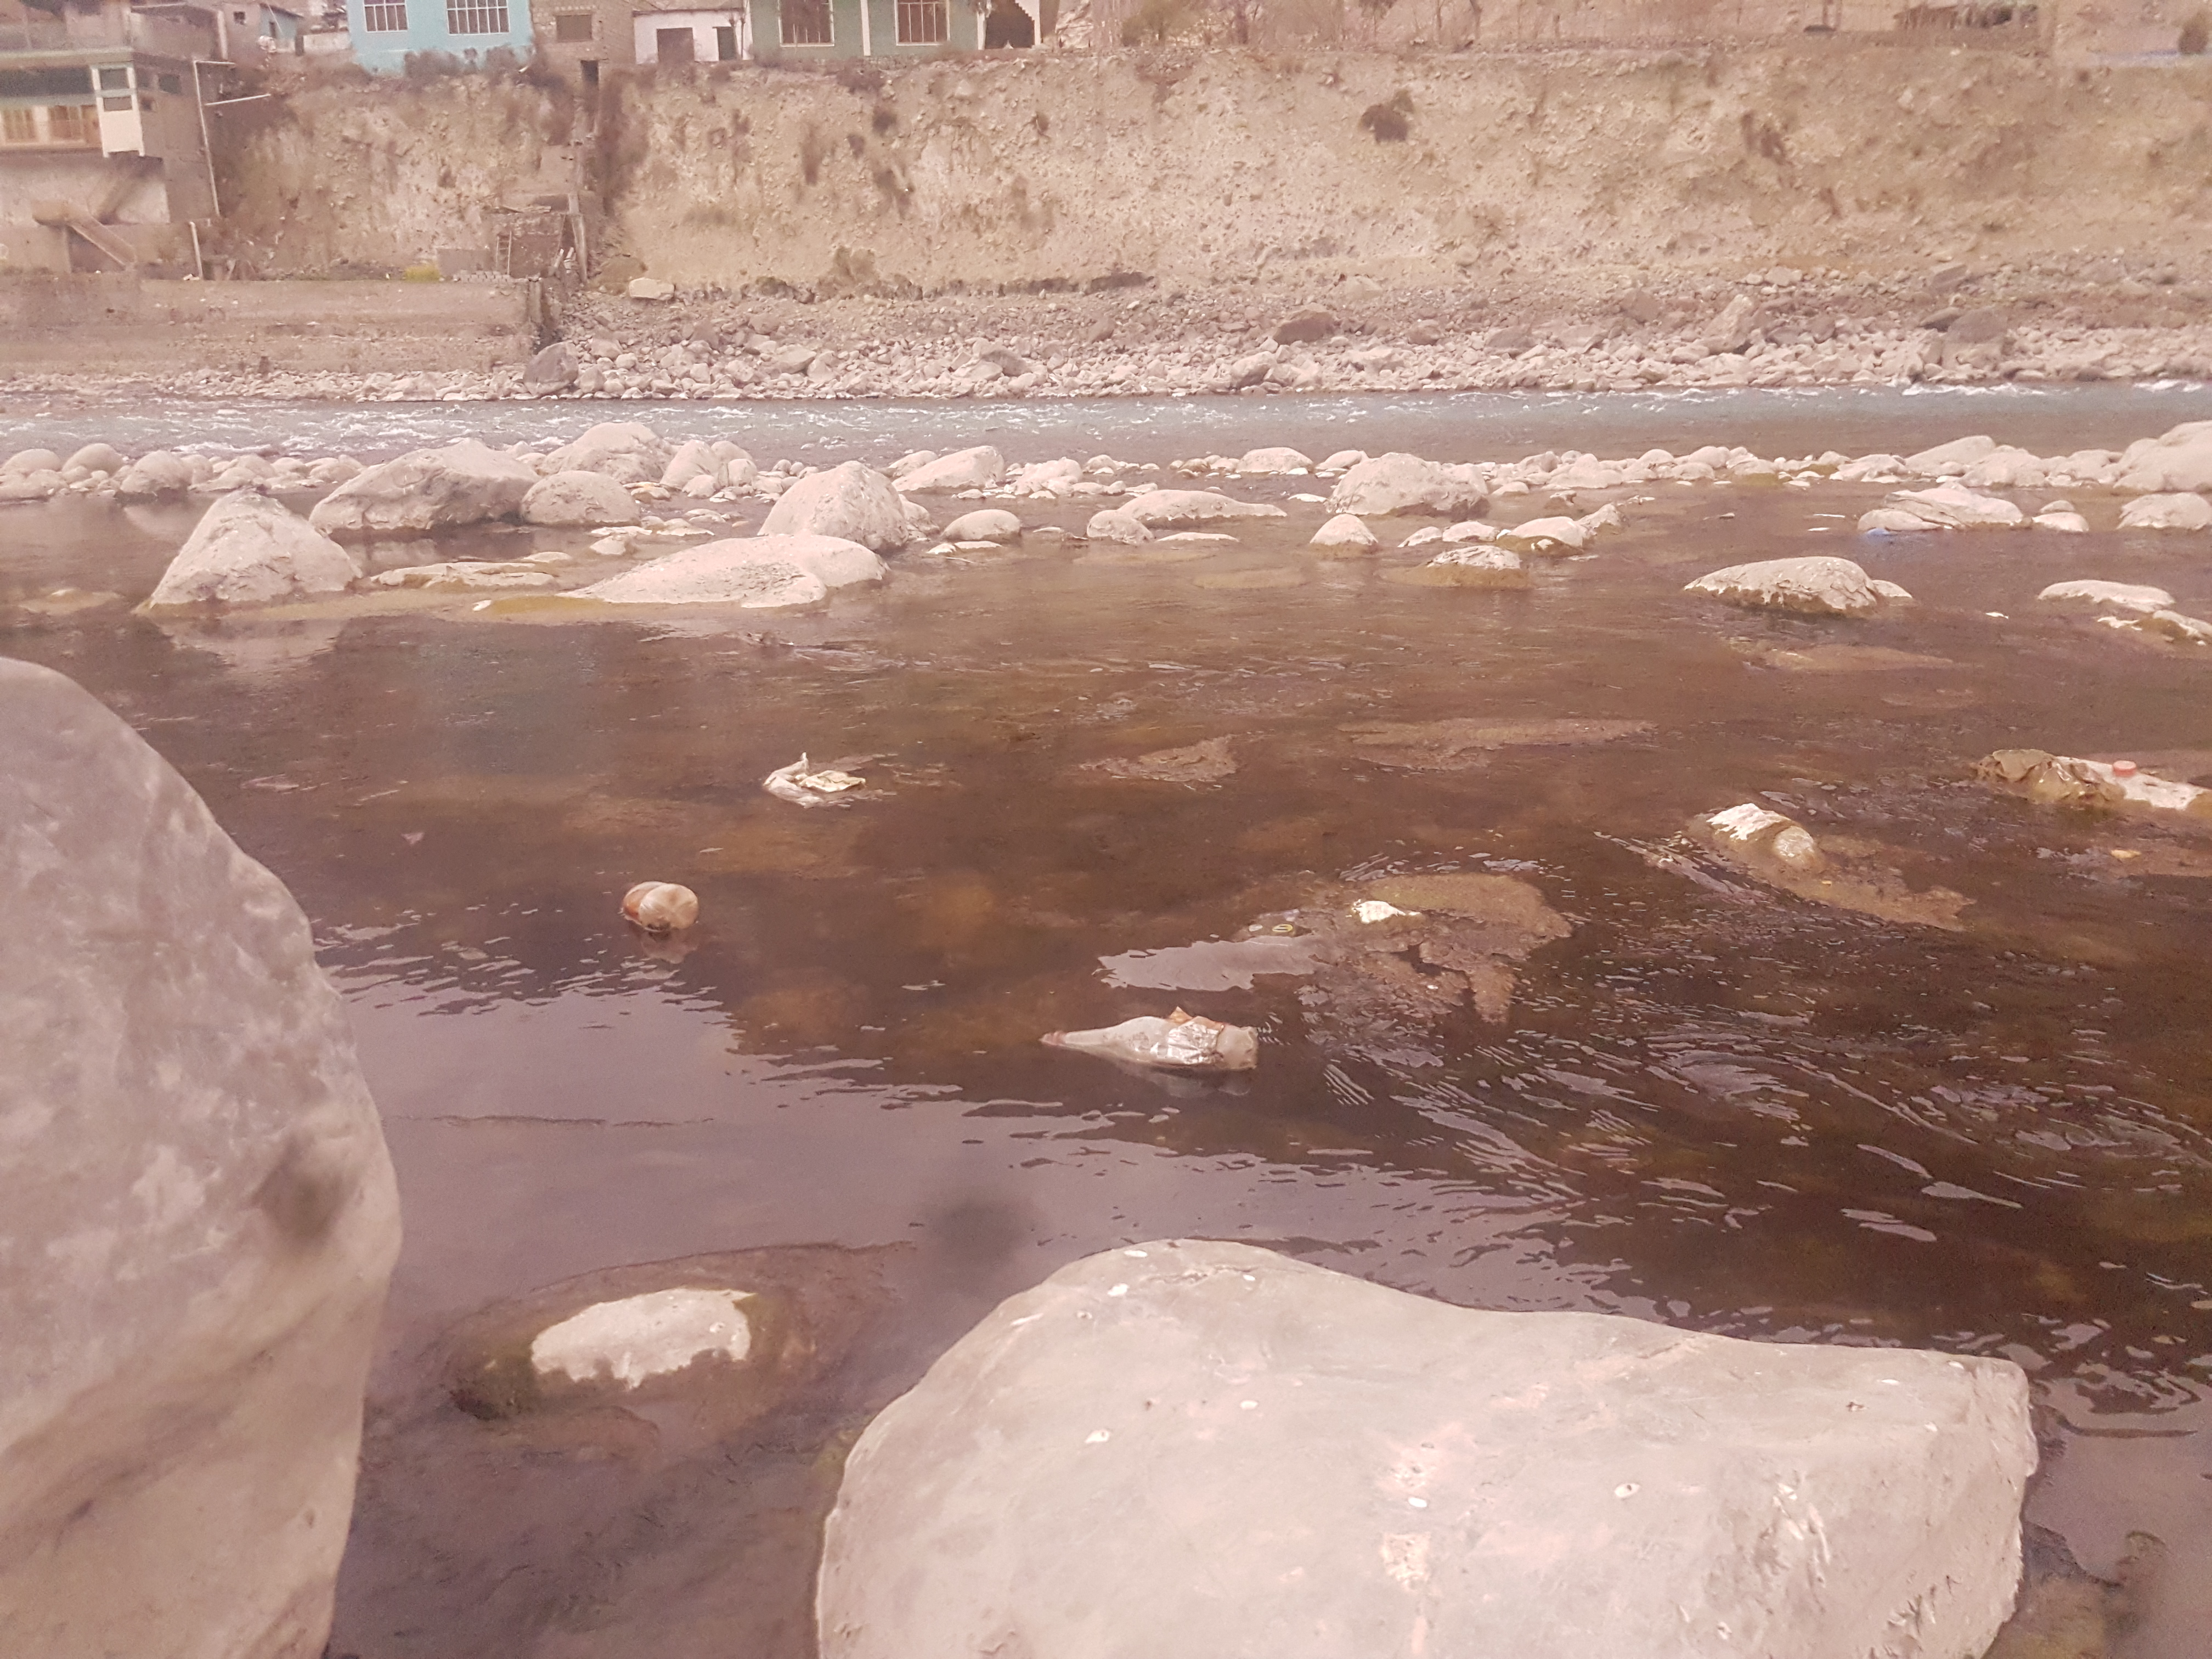Plastic Bottle: (1042, 1014, 1258, 1072), (624, 880, 698, 925), (1867, 526, 1888, 535)
